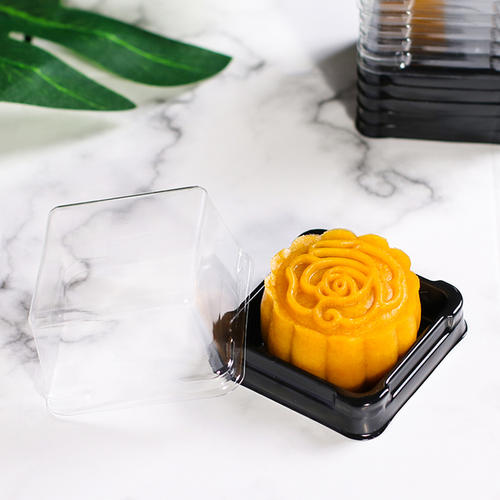MoonCake: (259, 229, 421, 391)
